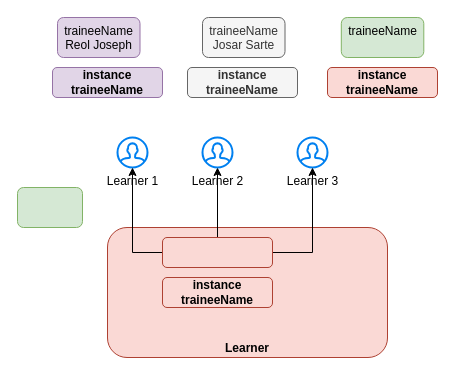
Image size: 455x375. Some labels were removed from this diagram. The shapes that lost their labels are listed below. From the top down, each one's centre as x and y in pixels, then its label:
[49,207]: training JBE
[217,252]: static training
